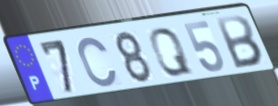5: (181, 18, 226, 73)
7: (37, 38, 77, 96)
8: (113, 30, 156, 86)
B: (213, 13, 265, 71)
C: (76, 35, 119, 89)
Q: (148, 26, 195, 78)
